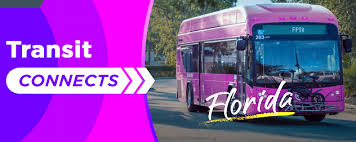bus: (174, 2, 351, 122)
